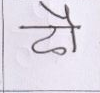au_matra: (56, 5, 82, 52)
